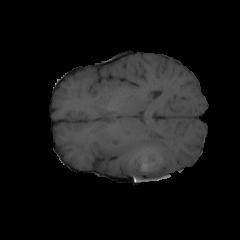glioma: (118, 138, 175, 178)
